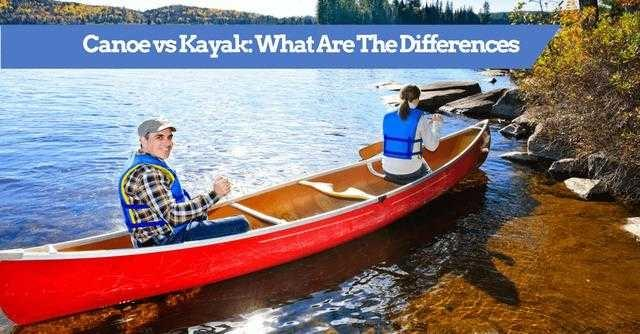kayak: (2, 109, 492, 327)
